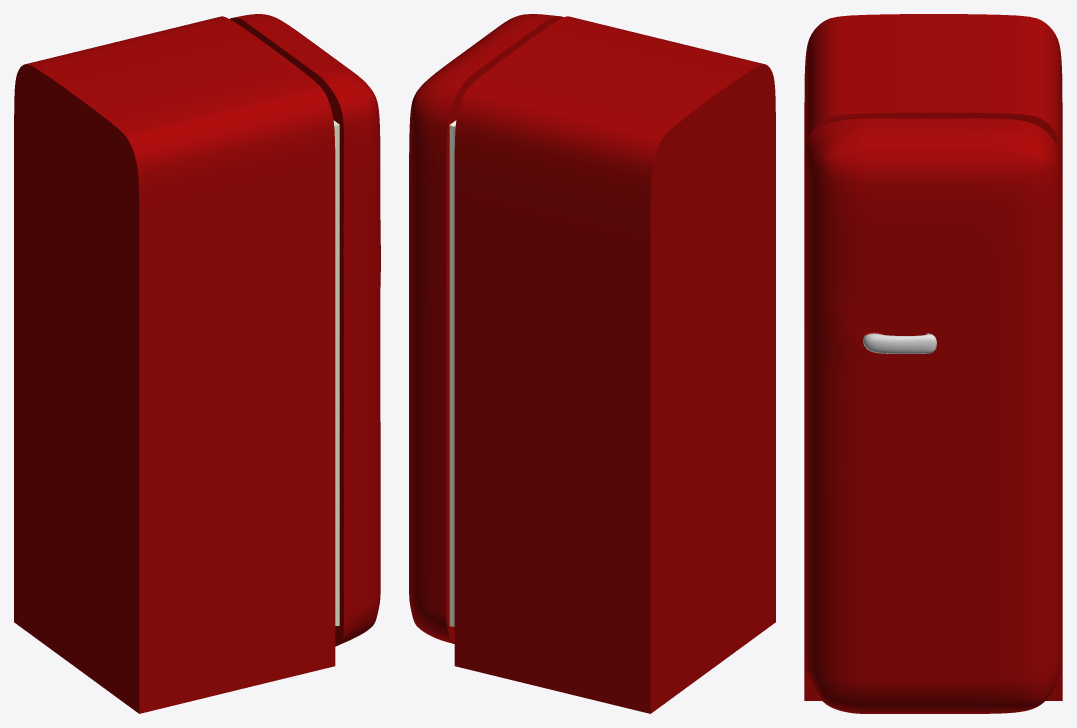
Rendered from HighPolyFridge.fbx.
The picture shows the model from 3 angles, left to right: view 1: azimuth 30°, elevation 25°; view 2: azimuth 150°, elevation 25°; view 3: azimuth 270°, elevation 25°; orthographic projection. The views are drawn at different scales.
Parts seen in each view (by area): view 1: Fridge, Door, Door joint; view 2: Fridge, Door, Door joint; view 3: Door, Fridge.
Boxes of the visible parts, bbox=[...] form: Fridge: bbox=[14, 16, 335, 713]; Door: bbox=[230, 14, 380, 646]; Door joint: bbox=[333, 120, 339, 625]; Fridge: bbox=[454, 16, 775, 713]; Door: bbox=[409, 14, 563, 643]; Door joint: bbox=[449, 120, 456, 626]; Door: bbox=[804, 118, 1062, 713]; Fridge: bbox=[804, 14, 1062, 700].
Size of what is drawn, in the model's own units: 1.51 by 0.7593 by 0.6.
